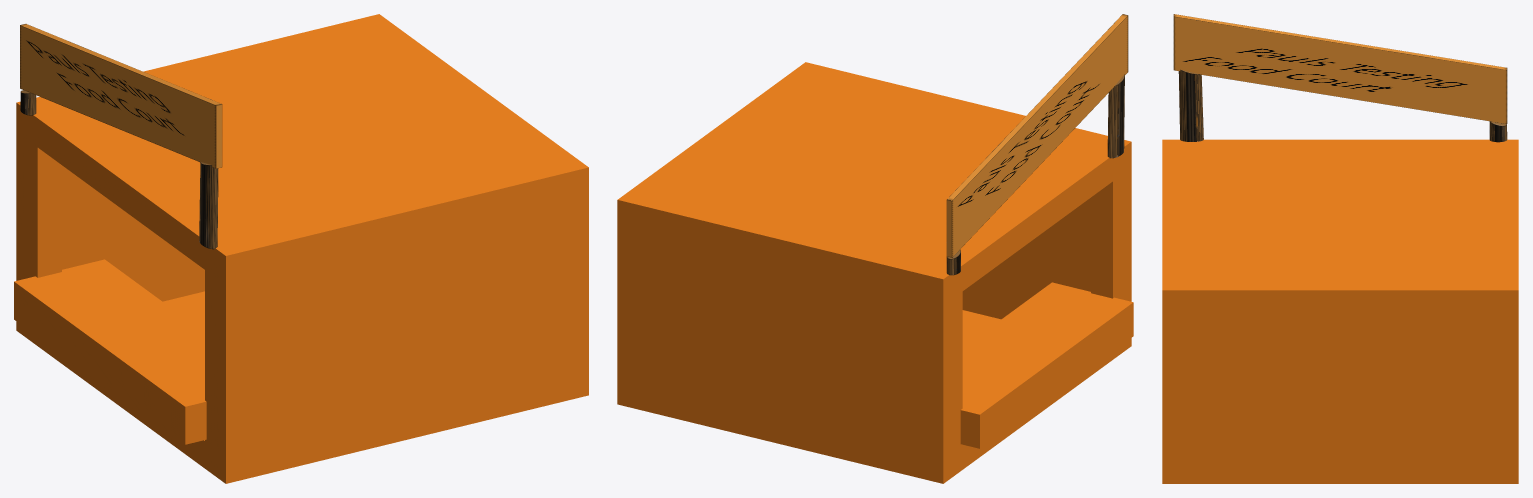
Rendered from beta_food_stand.fbx.
3 views of the same model, side by side, from view 1: azimuth 30°, elevation 25°; view 2: azimuth 150°, elevation 25°; view 3: azimuth 270°, elevation 25° (orthographic). The views are drawn at different scales.
Parts seen in each view (by area): view 1: Frame, Table/Counter, Sign; view 2: Frame, Table/Counter, Sign; view 3: Frame, Sign.
Boxes of the visible parts, x1,y1,x2,y2 form: Frame: (16,14,588,483); Table/Counter: (14,259,206,444); Sign: (20,24,222,249); Frame: (617,62,1131,483); Table/Counter: (960,282,1133,448); Sign: (946,14,1128,275); Frame: (1162,139,1518,483); Sign: (1173,14,1507,142).
Bounding box in the file's own units: 1271 × 1182 × 1200.
